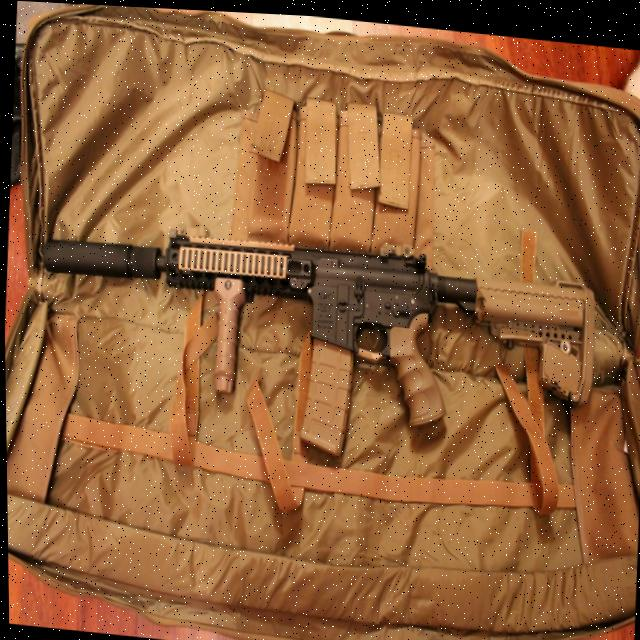firearm: (34, 213, 598, 476)
